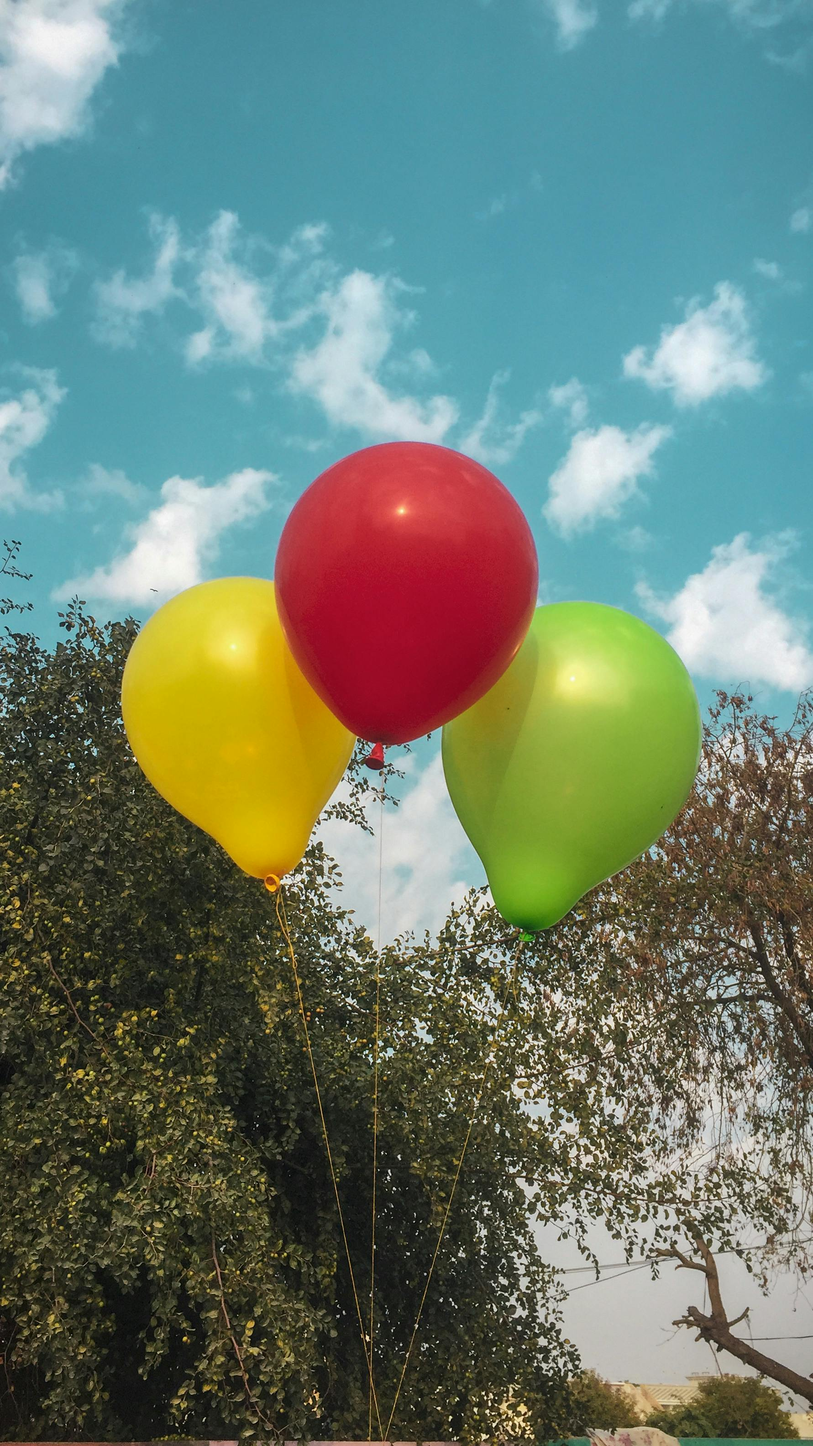balloon: (442, 603, 700, 931), (274, 442, 538, 745), (122, 579, 355, 878)
